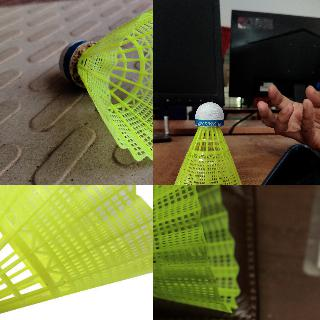shuttlecock: (0, 185, 152, 319), (58, 3, 152, 162), (153, 185, 241, 314), (172, 101, 243, 184)
